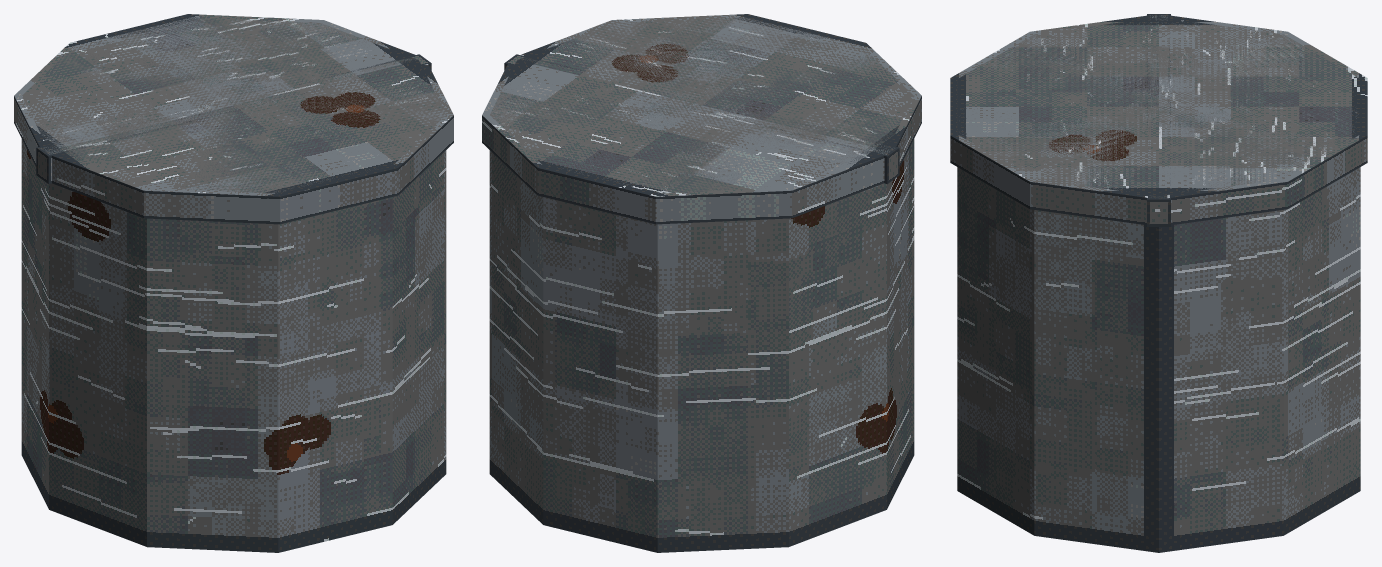
The model's file is SM_Bucket_01.glb.
3 renders of one model, left to right at view 1: azimuth 30°, elevation 25°; view 2: azimuth 150°, elevation 25°; view 3: azimuth 270°, elevation 25°, orthographic.
Visible parts, largest first — view 1: SM_Bucket_01; view 2: SM_Bucket_01; view 3: SM_Bucket_01.
Boxes of the visible parts, x1=… form: SM_Bucket_01: x1=14, y1=14, x2=453, y2=552; SM_Bucket_01: x1=482, y1=14, x2=921, y2=552; SM_Bucket_01: x1=950, y1=14, x2=1367, y2=552.
Bounding box in the file's own units: 0.29 × 0.26 × 0.2758.
Materials: 1 (1 with a texture image).
